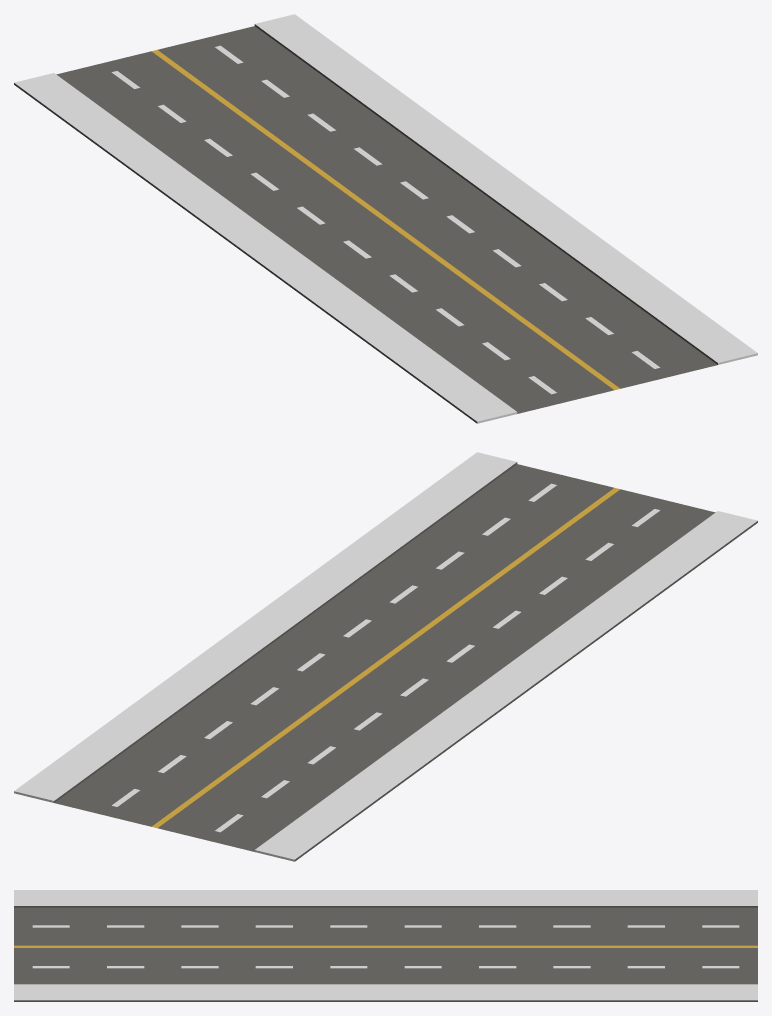
The model's file is RoadLong.fbx.
The picture shows the model from 3 angles, top to bottom: view 1: azimuth 30°, elevation 25°; view 2: azimuth 150°, elevation 25°; view 3: azimuth 270°, elevation 25°; orthographic projection. The views are drawn at different scales.
Parts seen in each view (by area): view 1: StraightRoadLong; view 2: StraightRoadLong; view 3: StraightRoadLong.
Part boxes in pixels (x1,y1,x2,y2): StraightRoadLong: [14, 14, 757, 423]; StraightRoadLong: [14, 452, 757, 861]; StraightRoadLong: [14, 890, 757, 1001].
Size of the model in its own units: 1400 by 10 by 4000.
